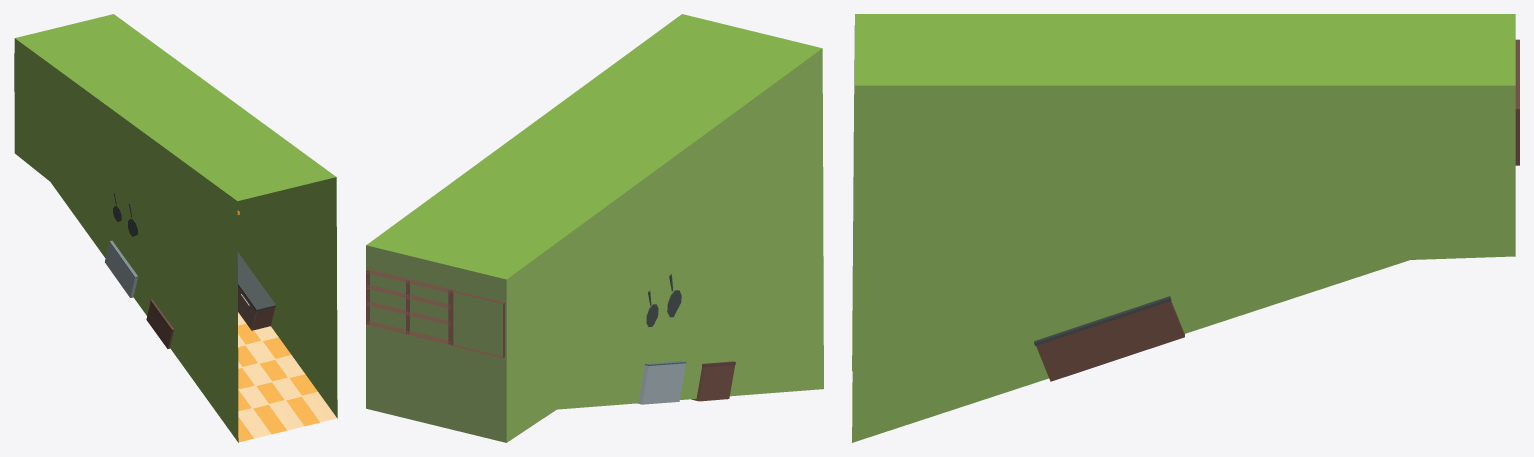
Rendered from kitchen.fbx.
3 renders of one model, left to right at view 1: azimuth 30°, elevation 25°; view 2: azimuth 150°, elevation 25°; view 3: azimuth 270°, elevation 25°, orthographic. The views are drawn at different scales.
Visible parts, largest first — view 1: Kitchen; view 2: Kitchen; view 3: Kitchen.
Part boxes in pixels (box(x1,y1,x2,y2)): Kitchen: box(14, 14, 337, 442); Kitchen: box(366, 14, 823, 442); Kitchen: box(852, 14, 1519, 442).
Size of the model in its own units: 3593 by 7858 by 13312.
